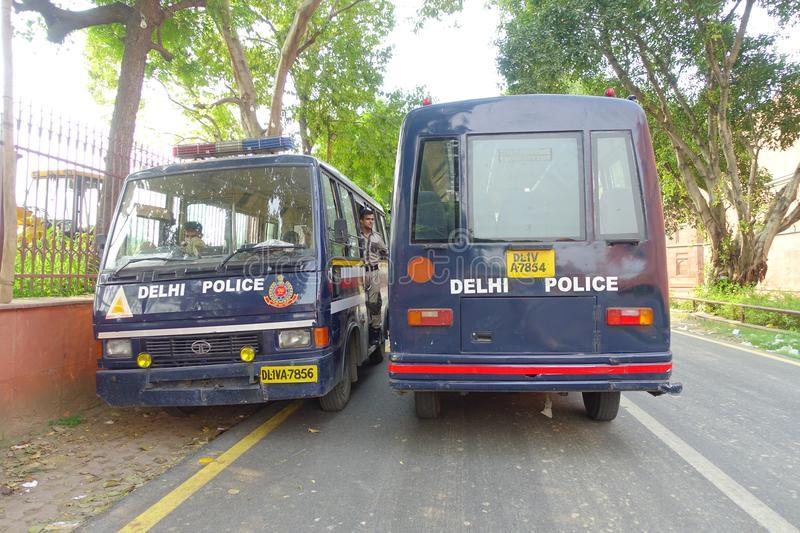Emergency-Vehicles: (393, 91, 681, 427), (95, 121, 375, 396)
